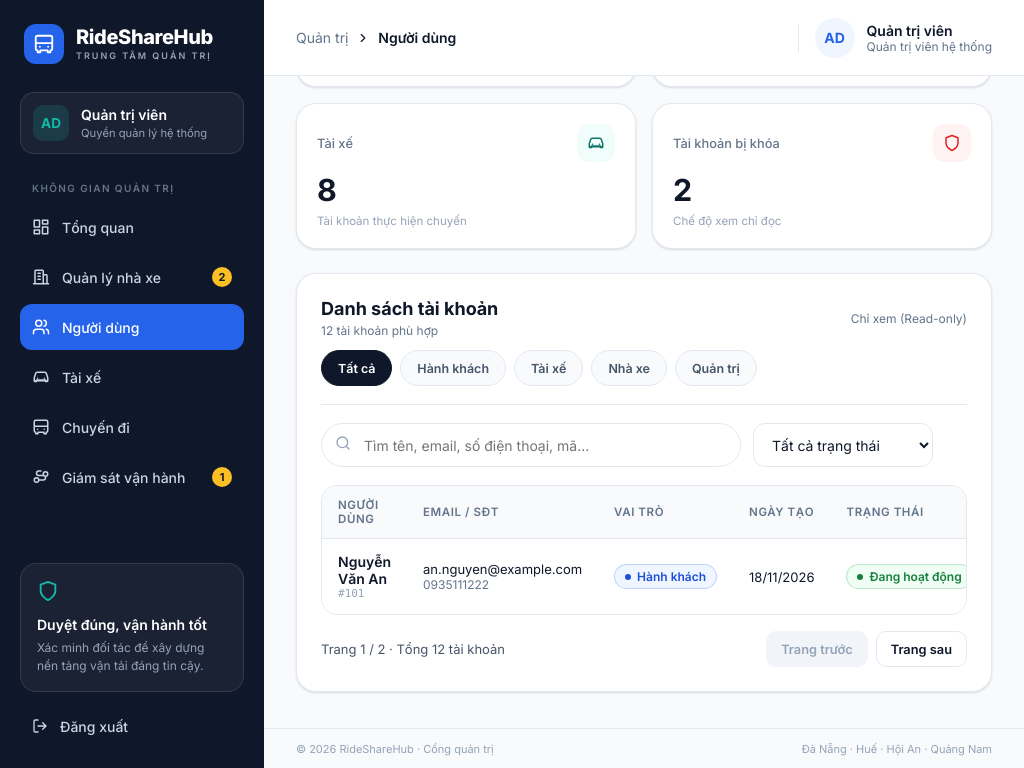
Test: SP4-P1-02 & SP4-P1-04b: Admin Dashboard & Read-Only Directories › renders AdminUserListPage with role filtering, search, pagination, and read-only enforcement
This screenshot has width=1024, height=768.
Later steps or results of the test are not shown.
(page scrolled)
Expected: the text "Nguyễn Văn An" is shown, [338, 553, 391, 587]
Expected: the text "Trang 1 / 2 · Tổng 12 tài khoản" is shown, [321, 641, 505, 657]
What coordinates should you click on to do the following:
click the button "Trang sau"
I would click on:
 (921, 649)
Its box is [876, 631, 967, 667].
(page scrolled)
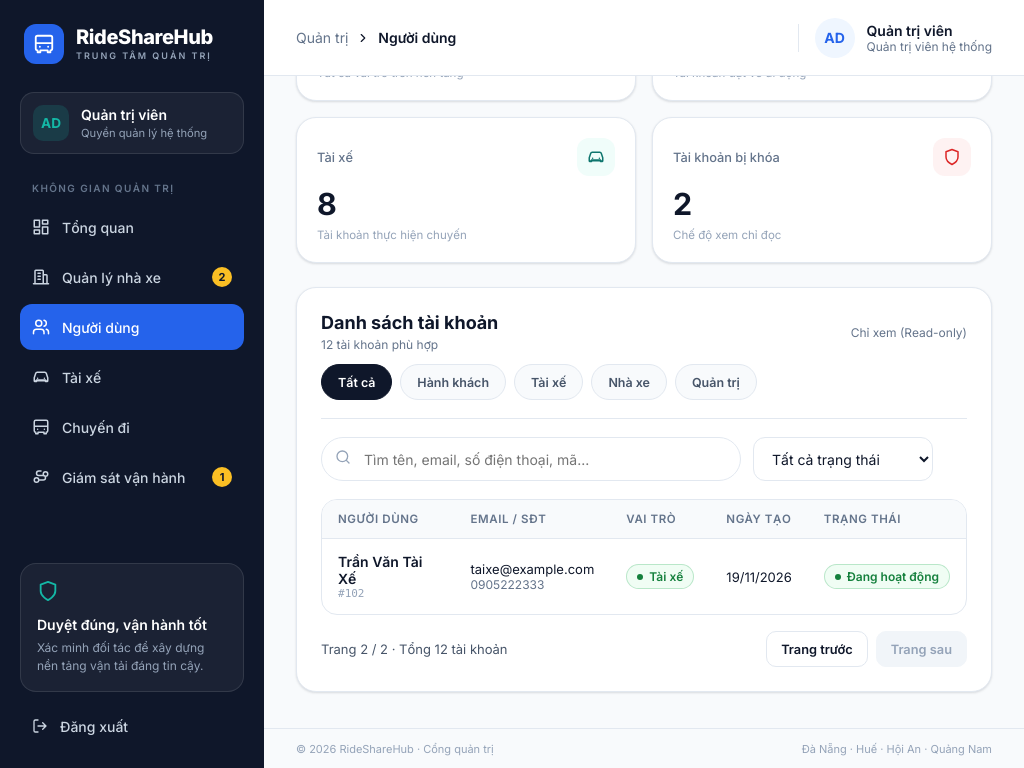
Expected: the text "Trần Văn Tài Xế" is shown, [338, 553, 422, 587]
